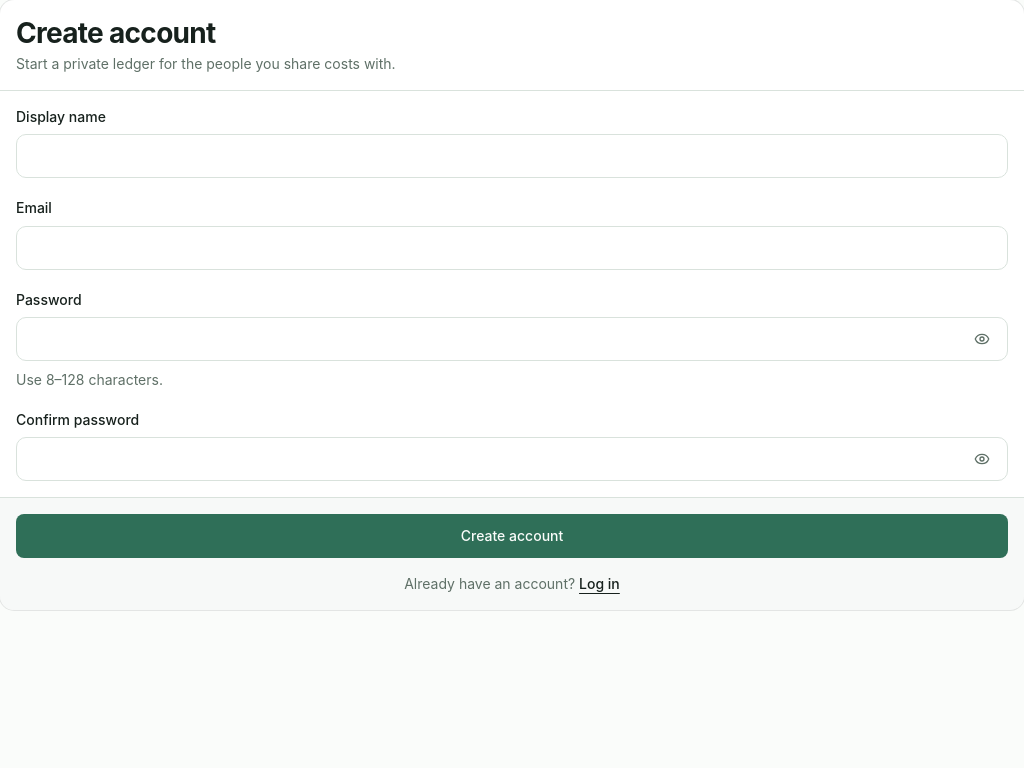
it: RegisterForm › blocks registration with confirmation  and focuses the field
Type "Alice" into the field labelled "Display name" at (512, 156), box [16,134,1008,178]
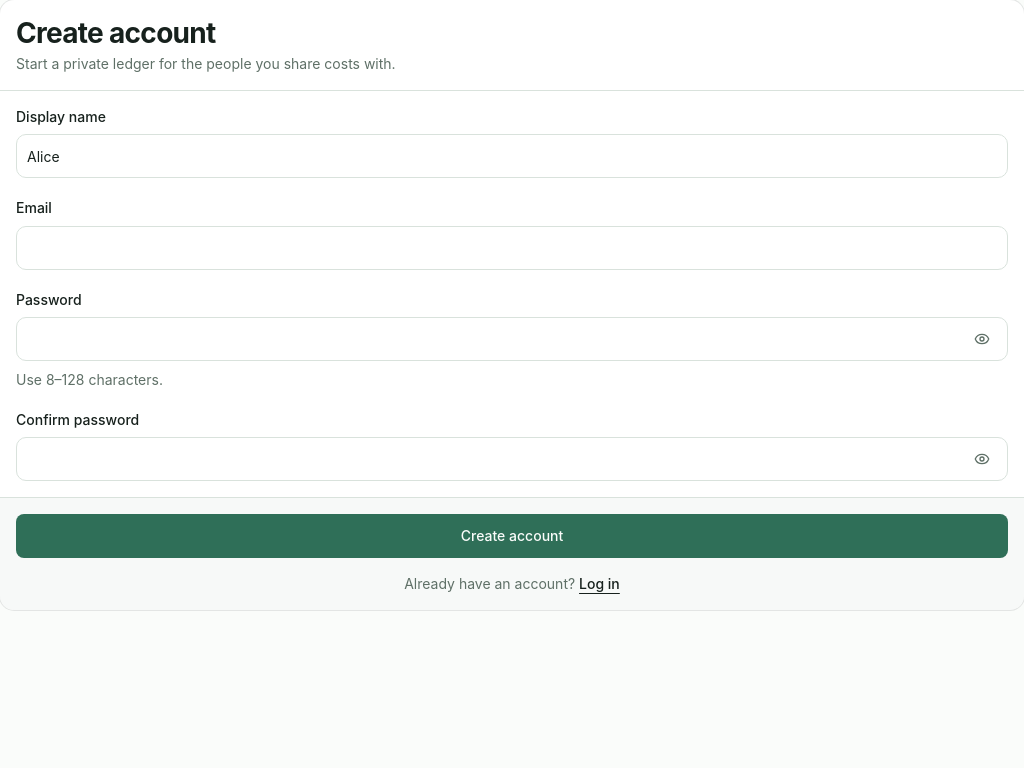
Type "alice@example.com" into the field labelled "Email" at (512, 248), box [16,226,1008,270]
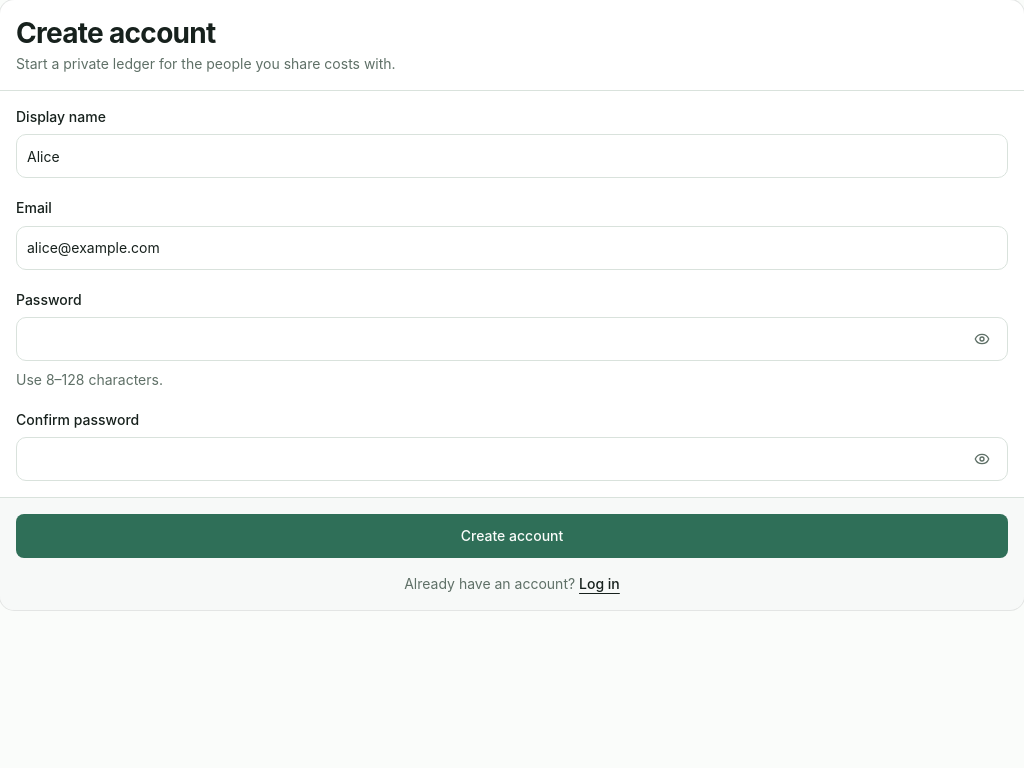
Type "password" into the password field labelled "Password" at (488, 339), box [17,317,960,361]
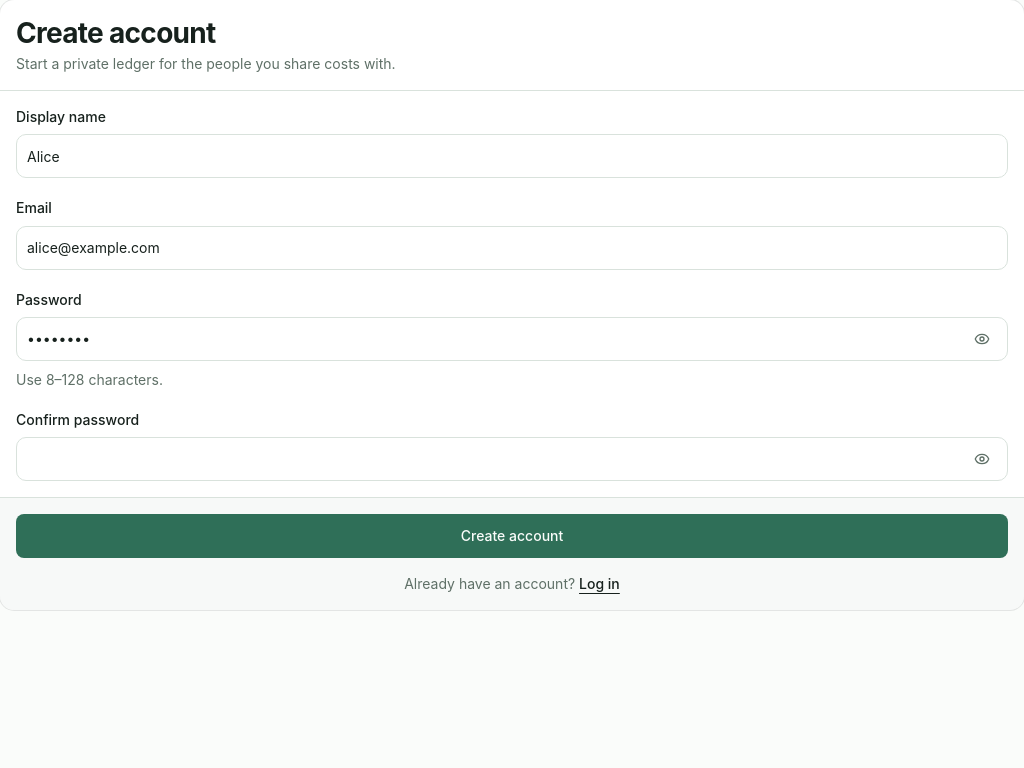
Click the button "Create account" at (512, 536), box [16,514,1008,558]
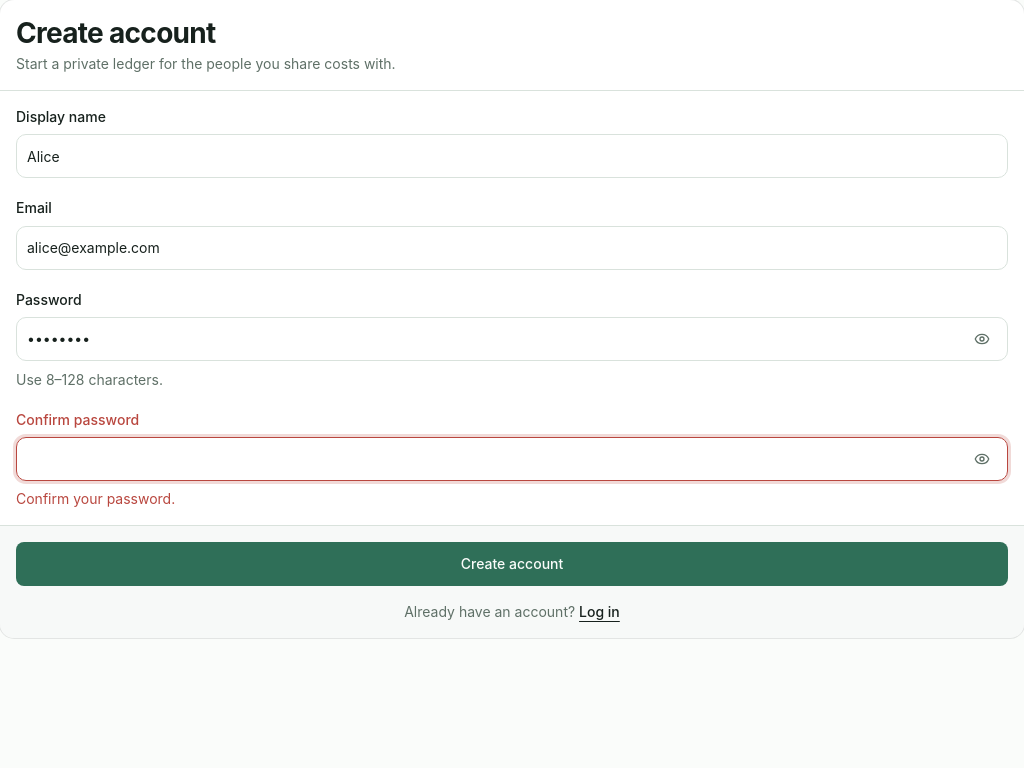
Type "password" into the password field labelled "Confirm password" at (488, 459), box [17,437,960,481]
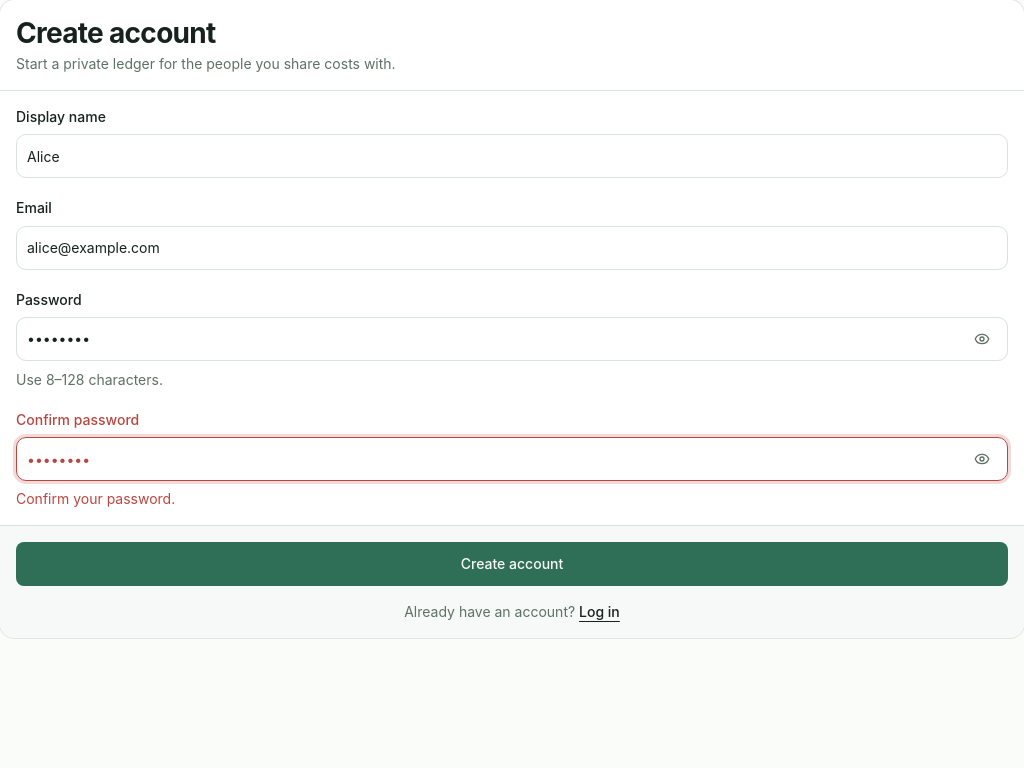
Click the button "Create account" at (512, 564), box [16,542,1008,586]
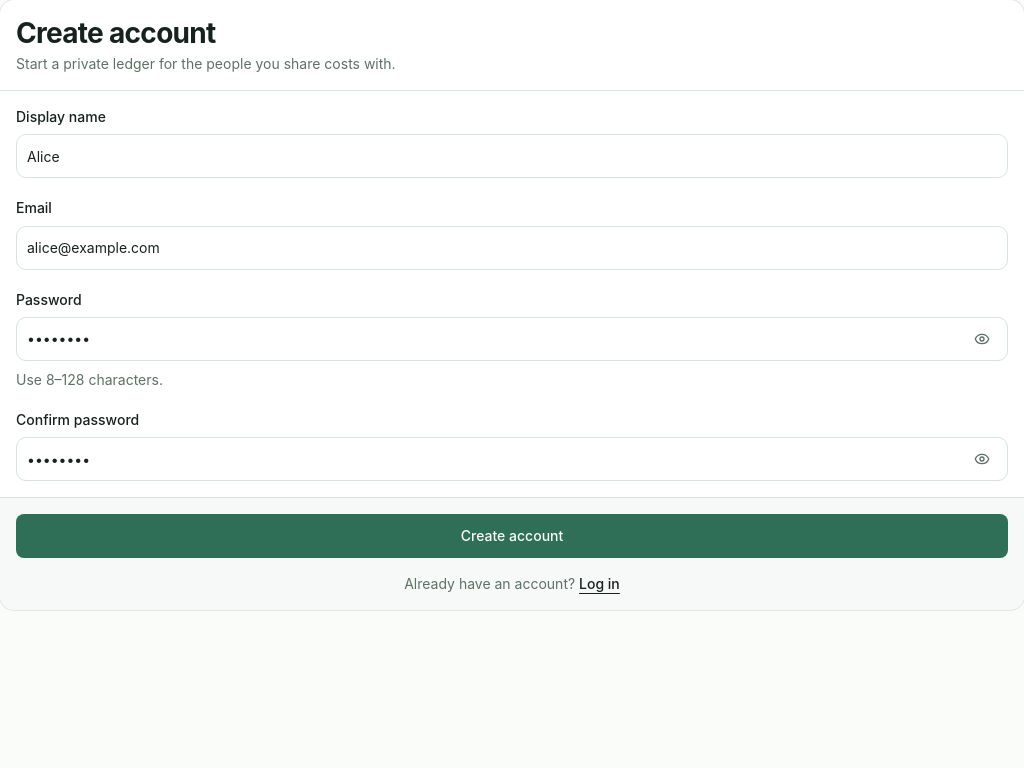
Result: the text "Confirm your password." is gone
